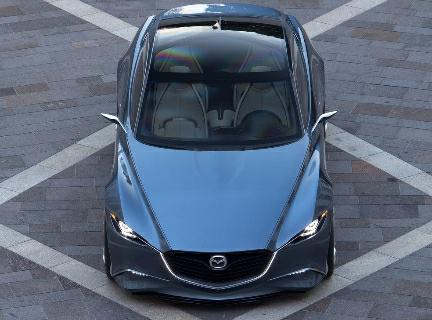马自达-Shinari: (97, 2, 343, 310)
